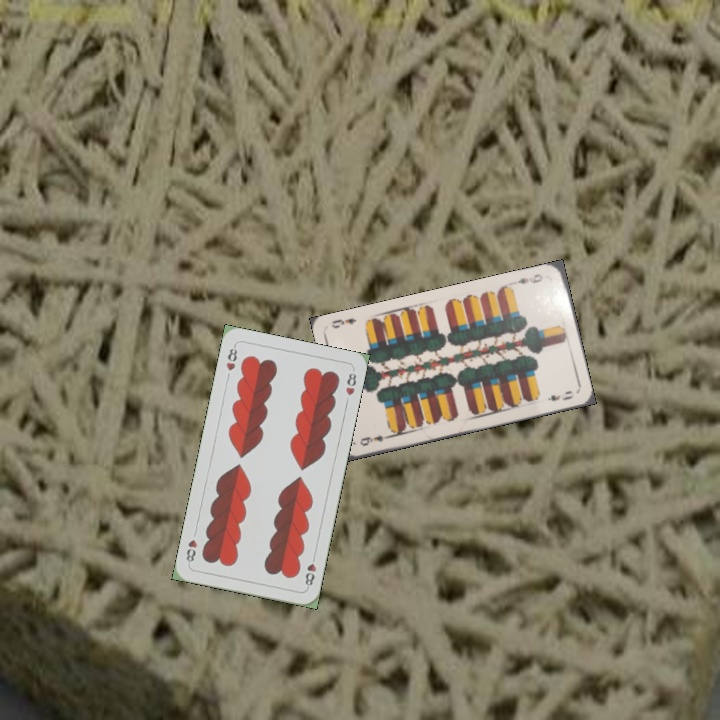E9: (356, 431, 394, 449), (513, 270, 545, 287)
H8: (301, 551, 319, 591), (222, 341, 240, 373)
